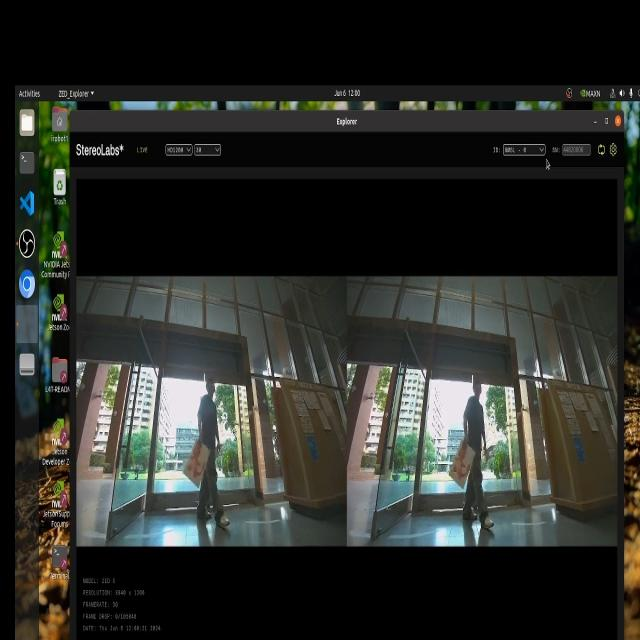red: (184, 434, 206, 486), (449, 441, 471, 486)
